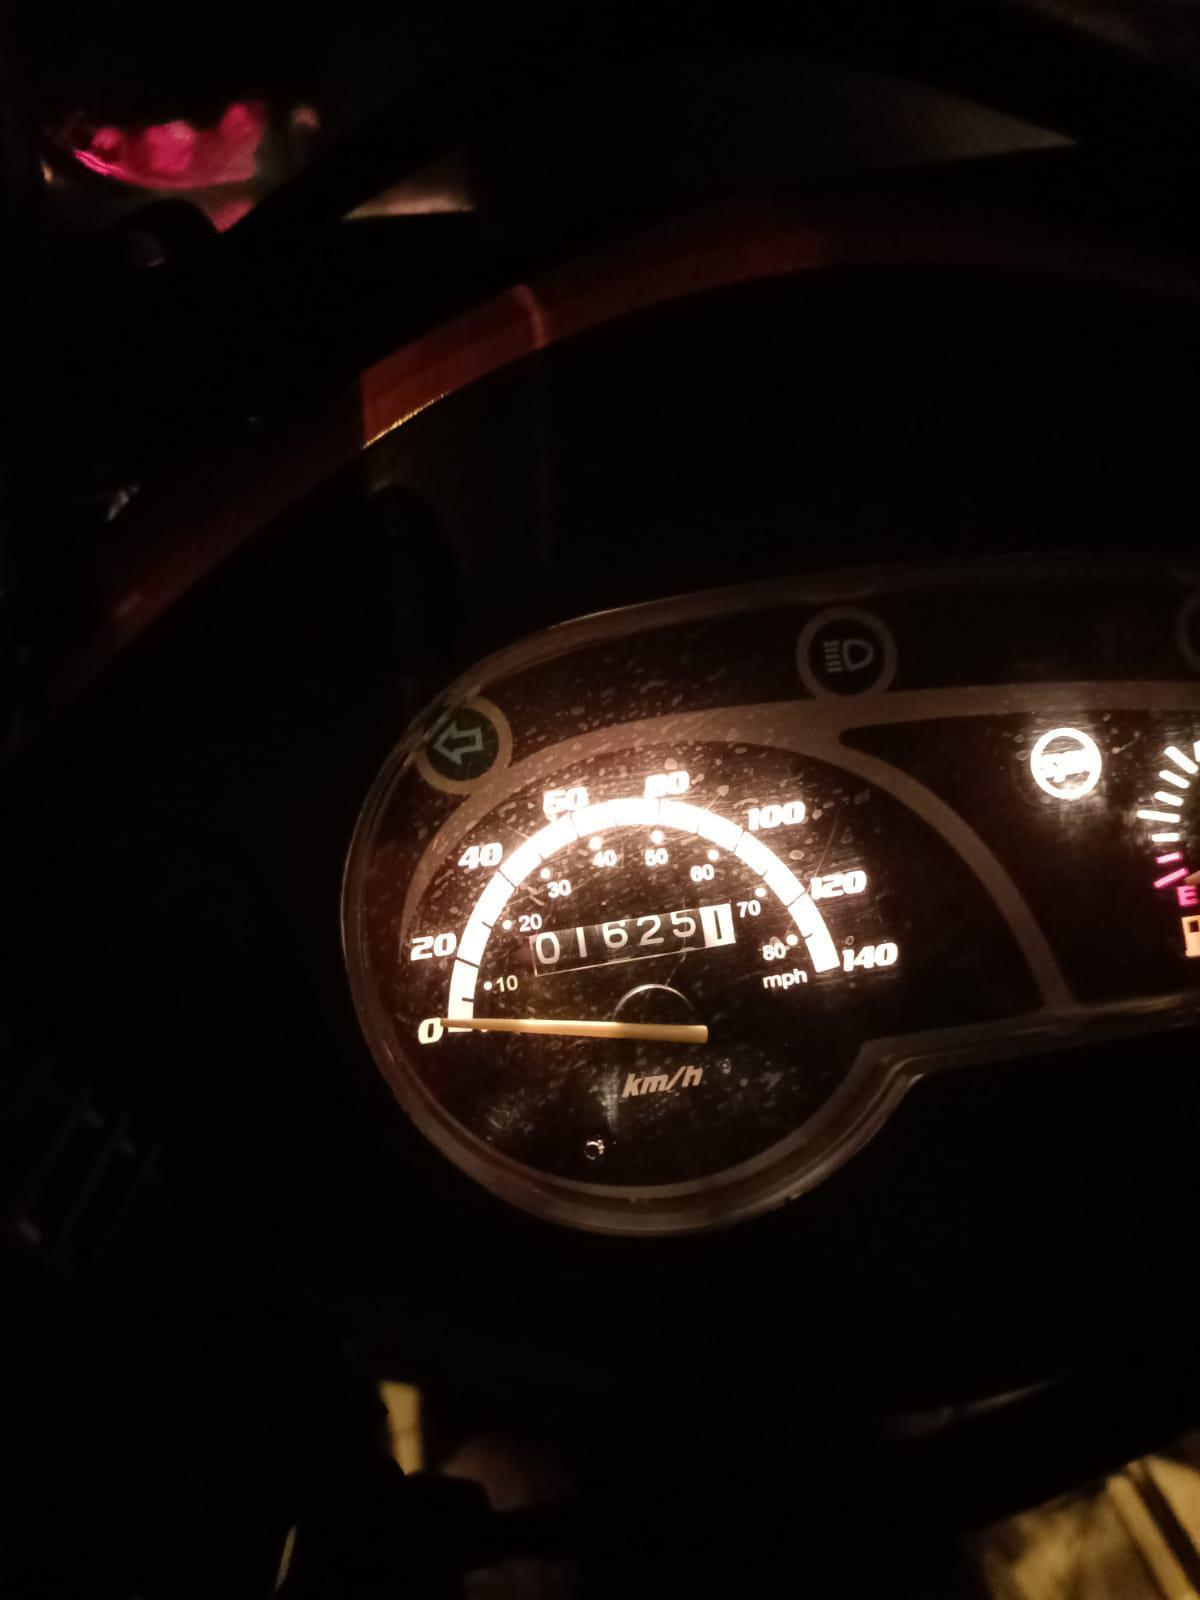0: (534, 930, 563, 966), (529, 910, 543, 929)
1: (707, 903, 730, 955), (568, 921, 591, 968)
2: (635, 913, 664, 950), (518, 913, 529, 934)
5: (666, 901, 701, 941)
6: (599, 915, 630, 957)
odometer: (517, 897, 740, 976)
